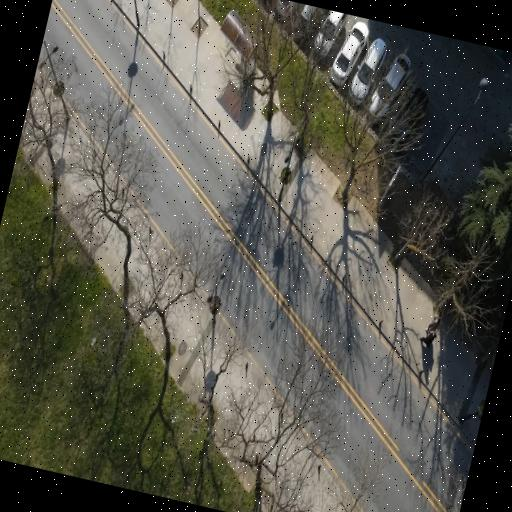harvester: (369, 54, 410, 116), (329, 22, 368, 86), (349, 39, 385, 104), (393, 87, 428, 149), (314, 10, 346, 55), (275, 0, 294, 16), (300, 5, 315, 24)
person: (419, 331, 435, 347), (425, 317, 439, 333)
